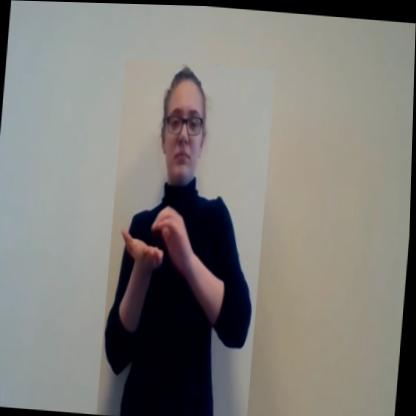ExcuseMe: (98, 57, 275, 416)
